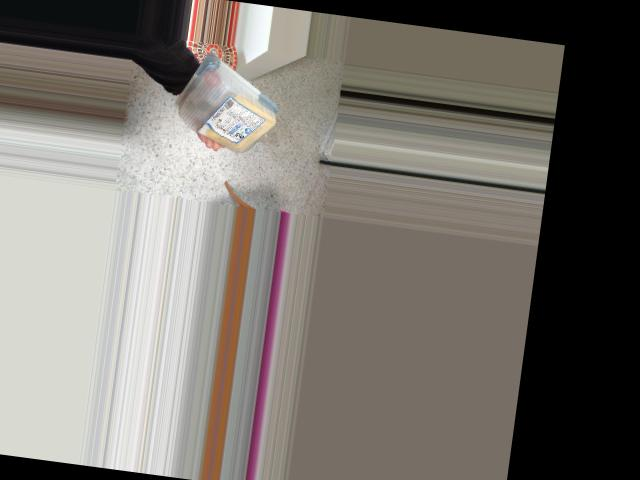cheese: (164, 42, 291, 166)
